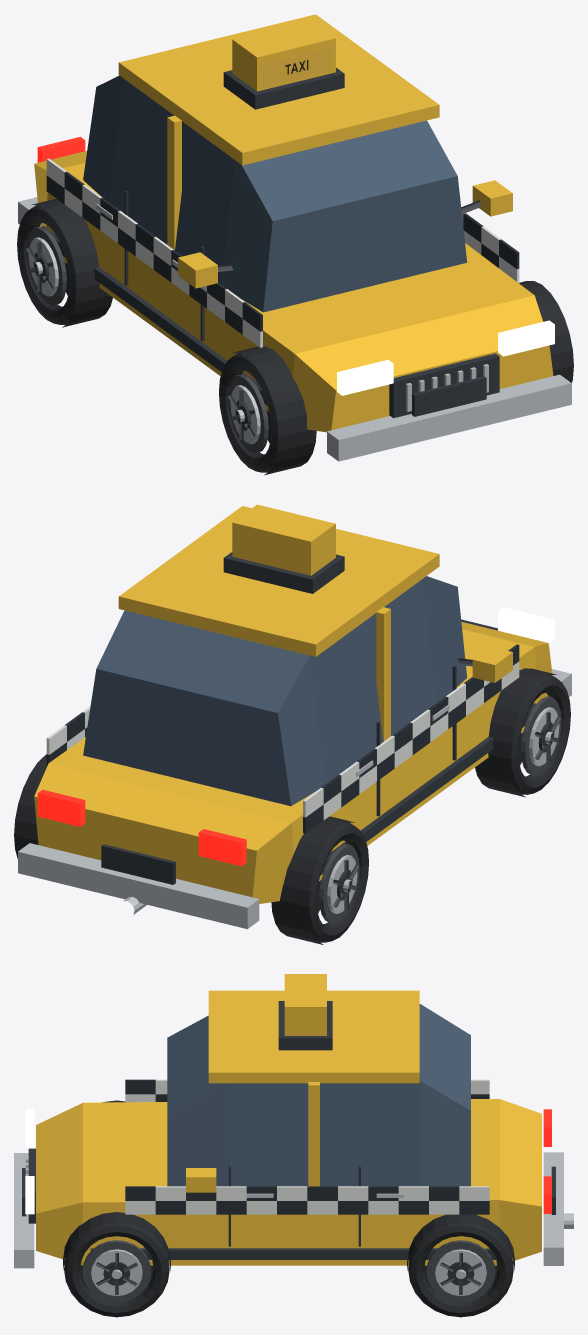
File: car-taxi.glb
The picture shows the model from 3 angles, top to bottom: view 1: azimuth 30°, elevation 25°; view 2: azimuth 150°, elevation 25°; view 3: azimuth 270°, elevation 25°; orthographic projection. The views are drawn at different scales.
Parts seen in each view (by area): view 1: body-detail, wheel-front-left, wheel-back-left, wheel-front-right; view 2: body-detail, wheel-back-left, wheel-front-left, wheel-back-right; view 3: body-detail, wheel-front-right, wheel-back-right.
Boxes of the visible parts, <box> form: body-detail: <box>18,14,571,461</box>; wheel-front-left: <box>219,346,316,475</box>; wheel-back-left: <box>17,199,112,327</box>; wheel-front-right: <box>519,281,573,382</box>; body-detail: <box>18,504,571,929</box>; wheel-back-left: <box>271,816,368,944</box>; wheel-front-left: <box>475,668,570,797</box>; wheel-back-right: <box>14,754,46,858</box>; body-detail: <box>14,974,573,1268</box>; wheel-front-right: <box>63,1212,170,1317</box>; wheel-back-right: <box>407,1214,514,1317</box>.
Bounding box in the file's own units: 1.85 × 1.76 × 3.32.
Materials: 12 (1 with a texture image).
